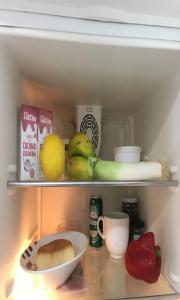Limón: (38, 130, 66, 186)
Plátano: (68, 132, 96, 159)
